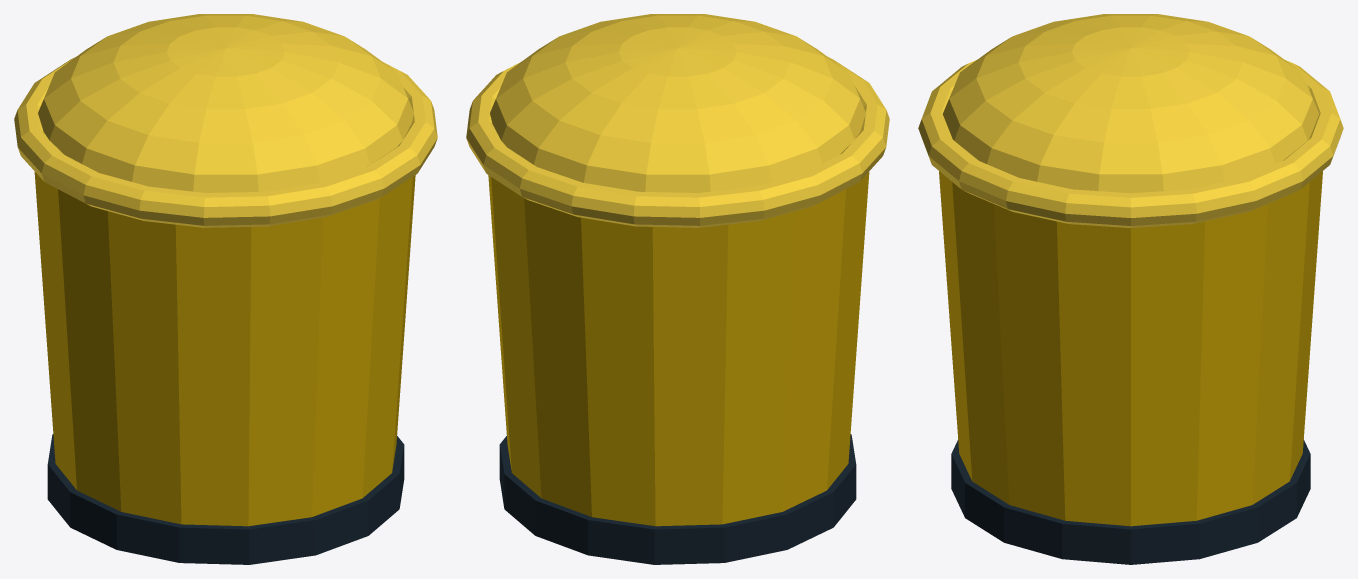
File: bin_plastic.glb
3 views of the same model, side by side, from view 1: azimuth 30°, elevation 25°; view 2: azimuth 150°, elevation 25°; view 3: azimuth 270°, elevation 25° (orthographic).
Parts seen in each view (by area): view 1: bin_plastic; view 2: bin_plastic; view 3: bin_plastic.
Boxes of the visible parts, x1,y1,x2,y2 form: bin_plastic: (14, 14, 437, 564); bin_plastic: (466, 14, 889, 564); bin_plastic: (918, 14, 1343, 564).
Size of the model in its own units: 1.09 by 1.25 by 1.09.
